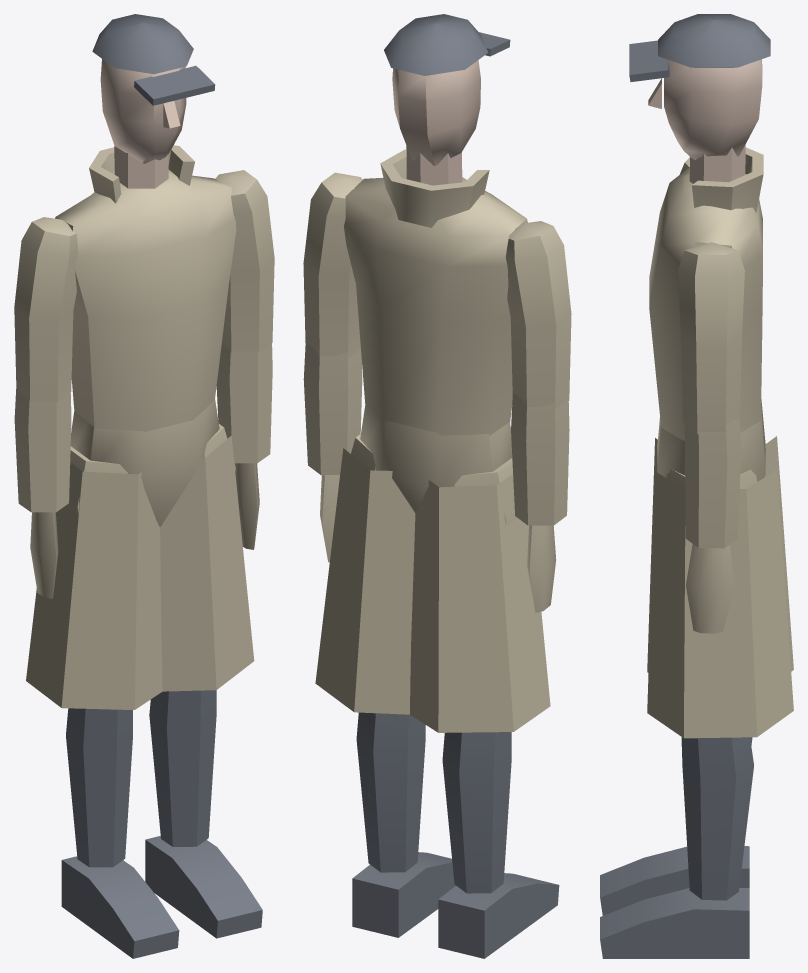
Rendered from civilian.glb.
The picture shows the model from 3 angles, left to right: view 1: azimuth 30°, elevation 25°; view 2: azimuth 150°, elevation 25°; view 3: azimuth 270°, elevation 25°; orthographic projection. The views are drawn at different scales.
Visible parts, largest first — view 1: torso, leg_r, leg_l, shin_r, shin_l, arm_r, forearm_r, hips, arm_l, forearm_l, head, cap; view 2: torso, leg_r, leg_l, shin_r, shin_l, arm_r, forearm_r, head, arm_l, hips, forearm_l, cap; view 3: leg_l, shin_l, torso, arm_l, forearm_l, head, cap, shin_r, hips, leg_r.
Boxes of the visible parts, bbox=[...] form: torso: bbox=[55, 145, 236, 432]; leg_r: bbox=[26, 446, 162, 709]; leg_l: bbox=[160, 424, 254, 691]; shin_r: bbox=[61, 708, 179, 958]; shin_l: bbox=[145, 690, 262, 938]; arm_r: bbox=[14, 217, 78, 401]; forearm_r: bbox=[14, 389, 71, 598]; hips: bbox=[70, 399, 219, 526]; arm_l: bbox=[215, 170, 274, 352]; forearm_l: bbox=[216, 343, 272, 549]; head: bbox=[100, 59, 186, 188]; cap: bbox=[92, 14, 215, 105]; torso: bbox=[343, 149, 527, 435]; leg_r: bbox=[410, 458, 550, 732]; leg_l: bbox=[315, 434, 415, 714]; shin_r: bbox=[438, 732, 559, 958]; shin_l: bbox=[352, 712, 455, 937]; arm_r: bbox=[505, 221, 571, 408]; forearm_r: bbox=[511, 393, 569, 612]; head: bbox=[392, 60, 480, 185]; arm_l: bbox=[303, 172, 362, 357]; hips: bbox=[360, 403, 512, 512]; forearm_l: bbox=[303, 342, 362, 562]; cap: bbox=[384, 14, 510, 75]; leg_l: bbox=[647, 469, 793, 738]; shin_l: bbox=[600, 737, 753, 958]; torso: bbox=[649, 147, 763, 440]; arm_l: bbox=[678, 242, 744, 434]; forearm_l: bbox=[685, 419, 741, 633]; head: bbox=[648, 59, 762, 183]; cap: bbox=[629, 14, 770, 82]; shin_r: bbox=[600, 737, 752, 915]; hips: bbox=[657, 399, 765, 481]; leg_r: bbox=[647, 436, 793, 672].
Size of the model in its own units: 0.5173 by 1.77 by 0.3435.
